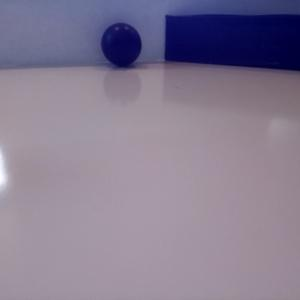zone: (164, 14, 300, 70)
